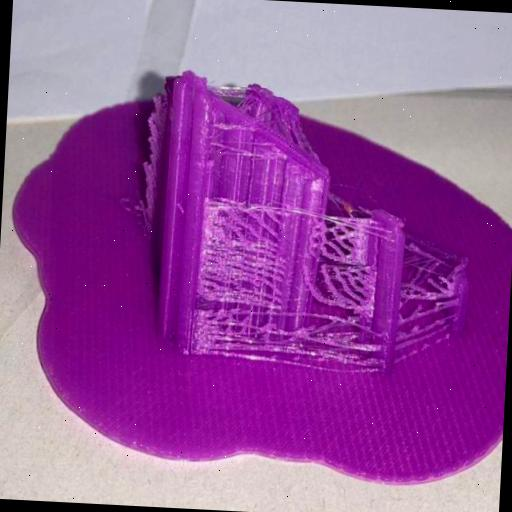stringing: (205, 209, 277, 303), (188, 303, 274, 363), (295, 316, 382, 370), (400, 284, 454, 356), (310, 217, 376, 274), (300, 266, 380, 310)
